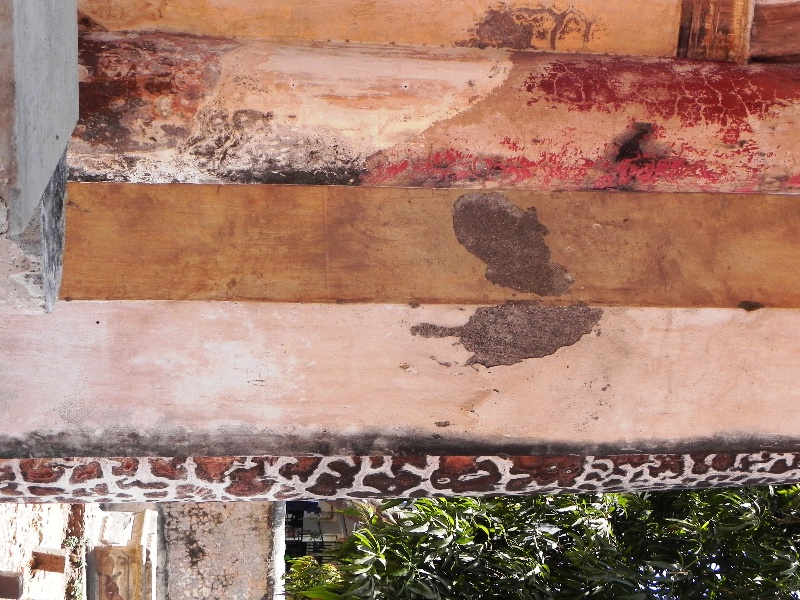Spalling: (445, 187, 585, 299), (396, 303, 617, 371), (735, 296, 769, 314)
